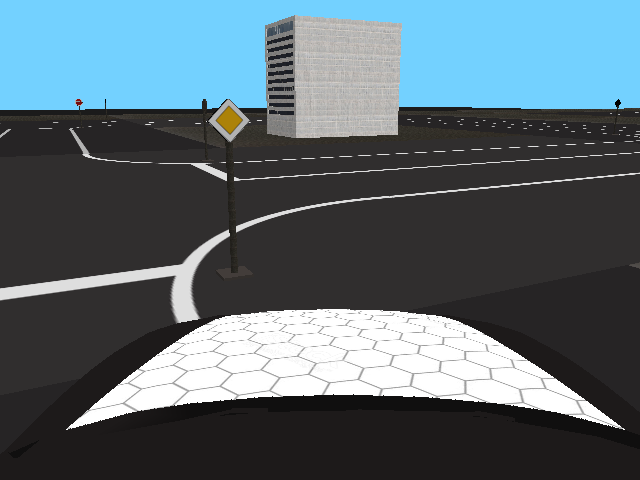priority: (207, 97, 252, 144)
